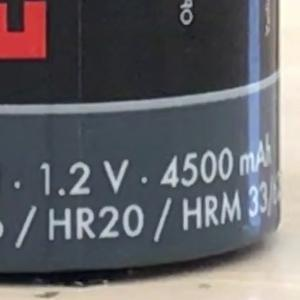HR20: (40, 195, 146, 249)
